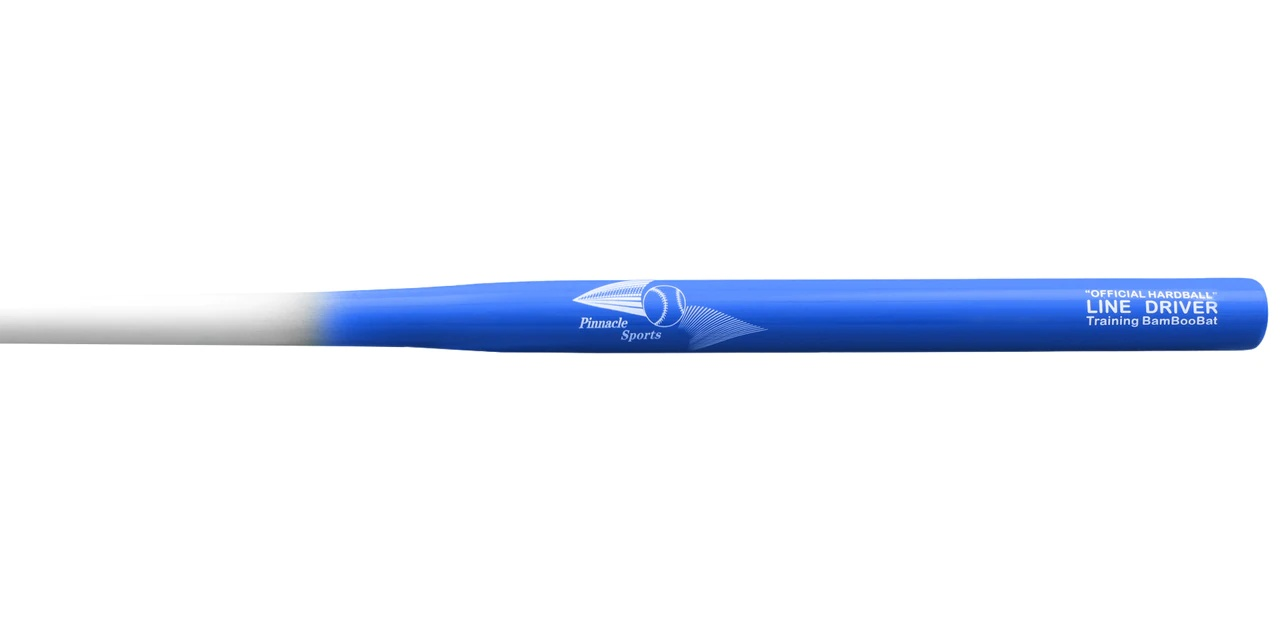bita: (3, 269, 1268, 353)
